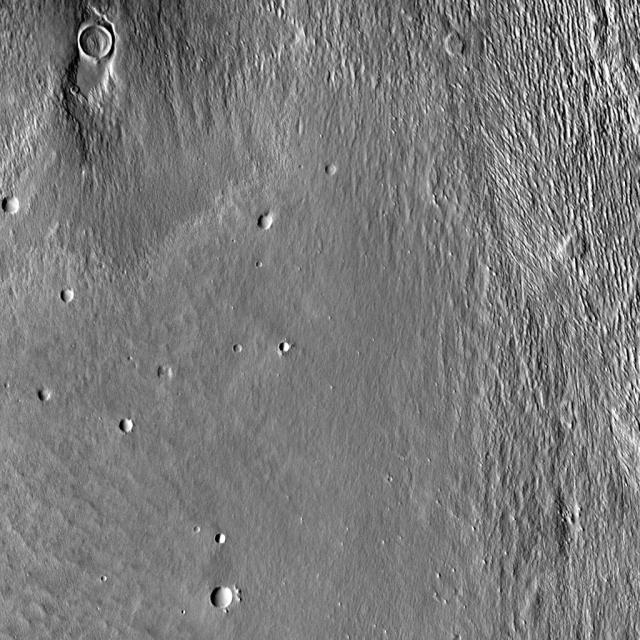crater: (78, 22, 115, 57), (212, 587, 236, 611), (5, 197, 24, 215), (261, 213, 277, 230), (124, 419, 138, 433), (62, 288, 76, 302), (161, 367, 174, 379), (40, 388, 53, 400), (218, 534, 230, 546), (328, 166, 338, 177), (281, 343, 291, 353), (236, 343, 245, 352), (96, 568, 104, 574), (190, 520, 197, 526), (252, 254, 258, 260)
